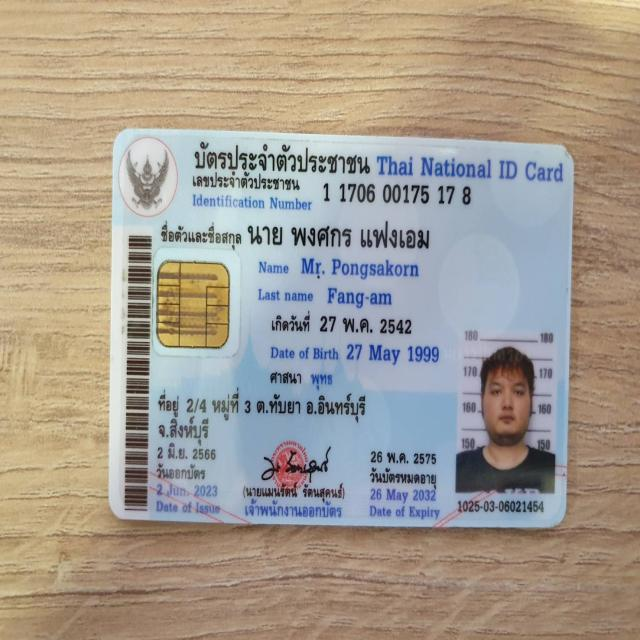Address_th: (155, 382, 376, 446)
Date_of_Birth: (342, 336, 444, 371)
Date_of_Expiry: (366, 482, 438, 507)
Date_of_Issue: (155, 477, 224, 501)
First_Name: (296, 253, 423, 281)
ID_Number: (319, 180, 476, 210)
Image: (459, 332, 557, 494)
Last_Name: (323, 284, 395, 312)
Thai_Name: (246, 210, 444, 254)
